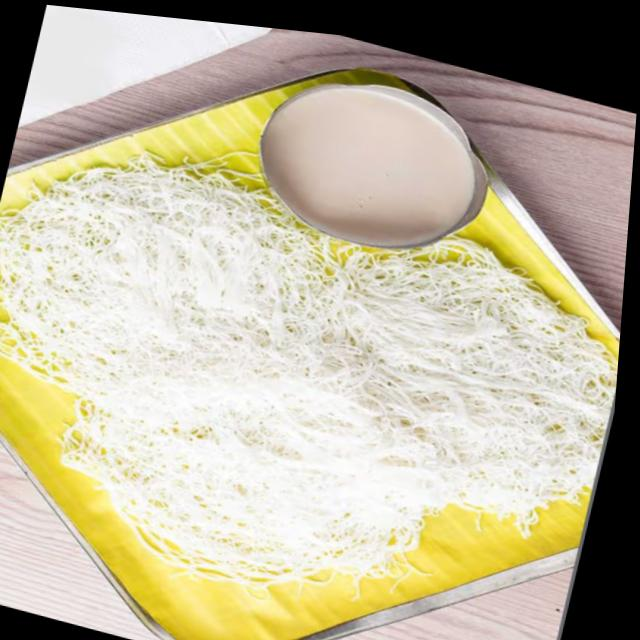IDIYAPPAM: (0, 170, 618, 575)
SWEET: (273, 86, 472, 244)
